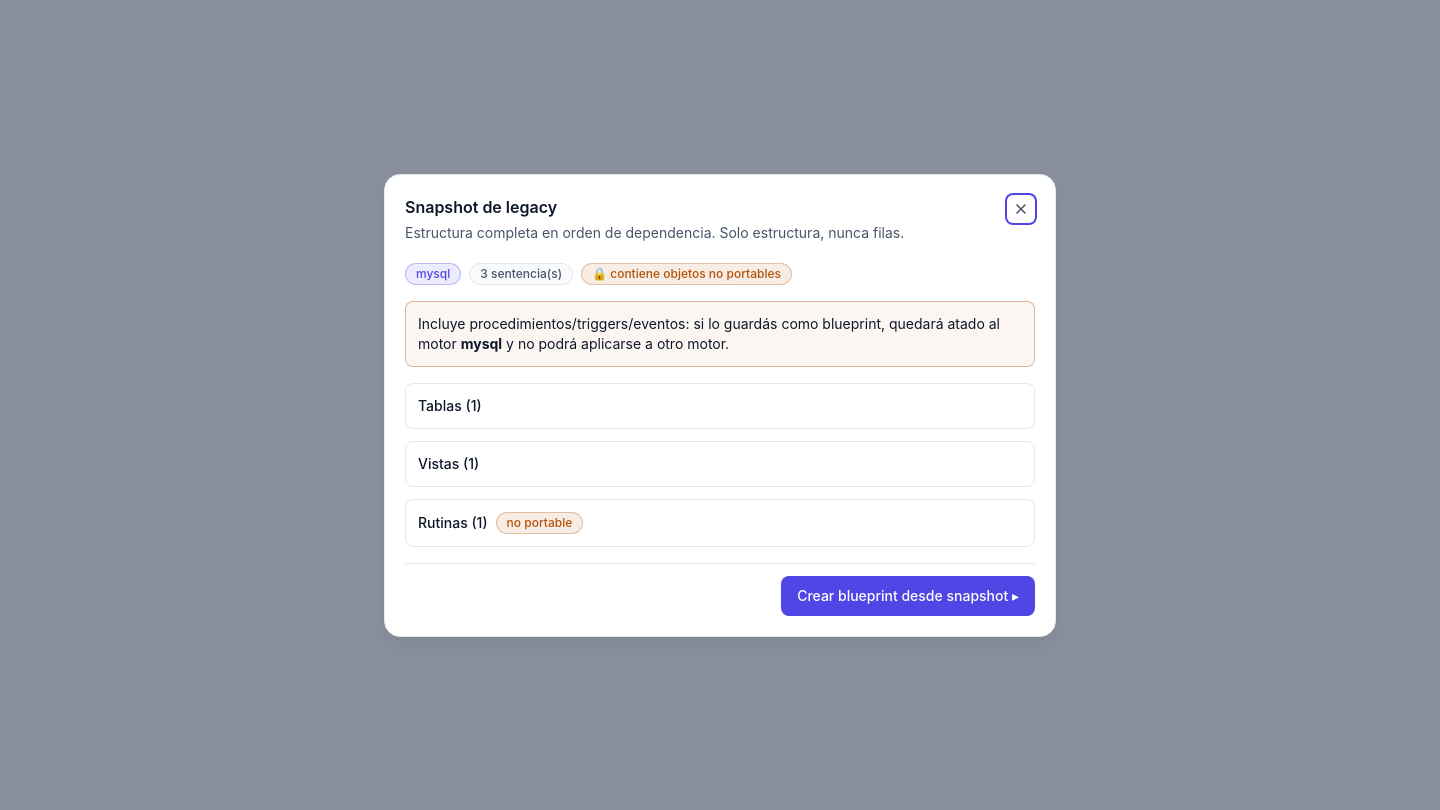
Scenario: SnapshotModal: código oculto sin schema.definitions › muestra el DDL de las tablas y «Contenido oculto» en los objetos redactados
Expected: the heading "Snapshot de legacy" is shown, [405,196,557,216]
Click the heading "Tablas (1)" at (450, 405), box [418,396,482,414]
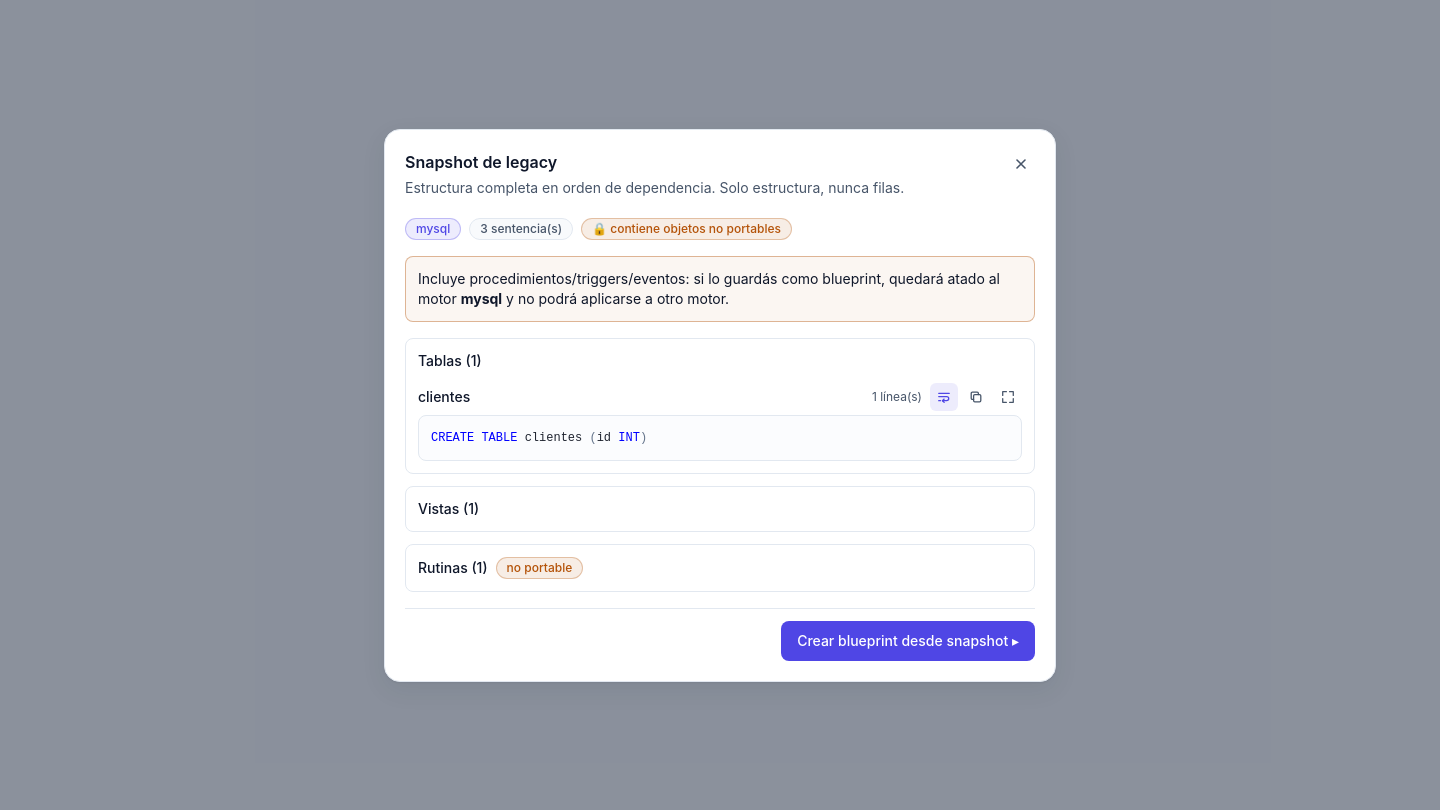
Click the heading "Vistas (1)" at (449, 508), box [418,500,479,516]
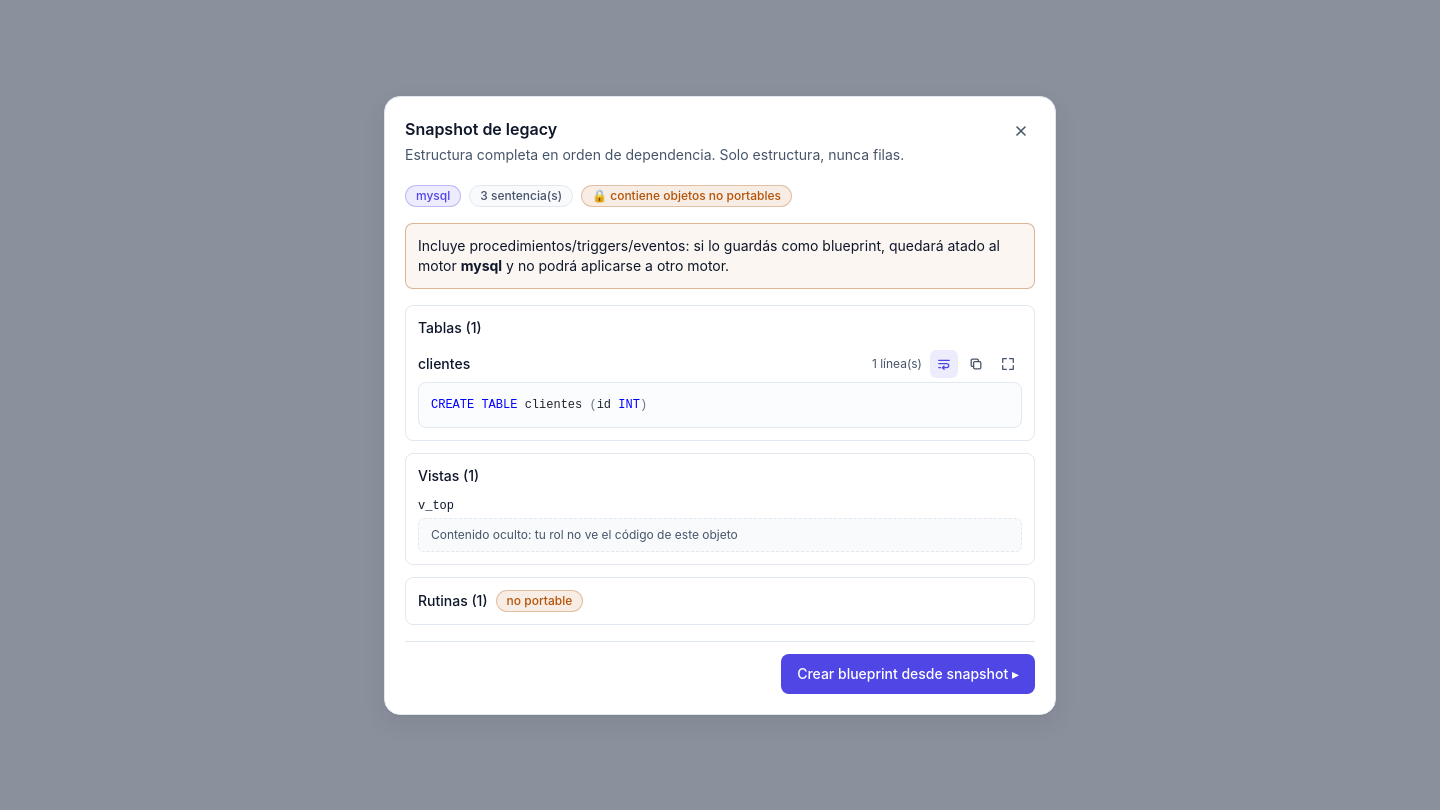
Click the heading "Rutinas (1) no portable" at (501, 600), box [418,590,583,612]
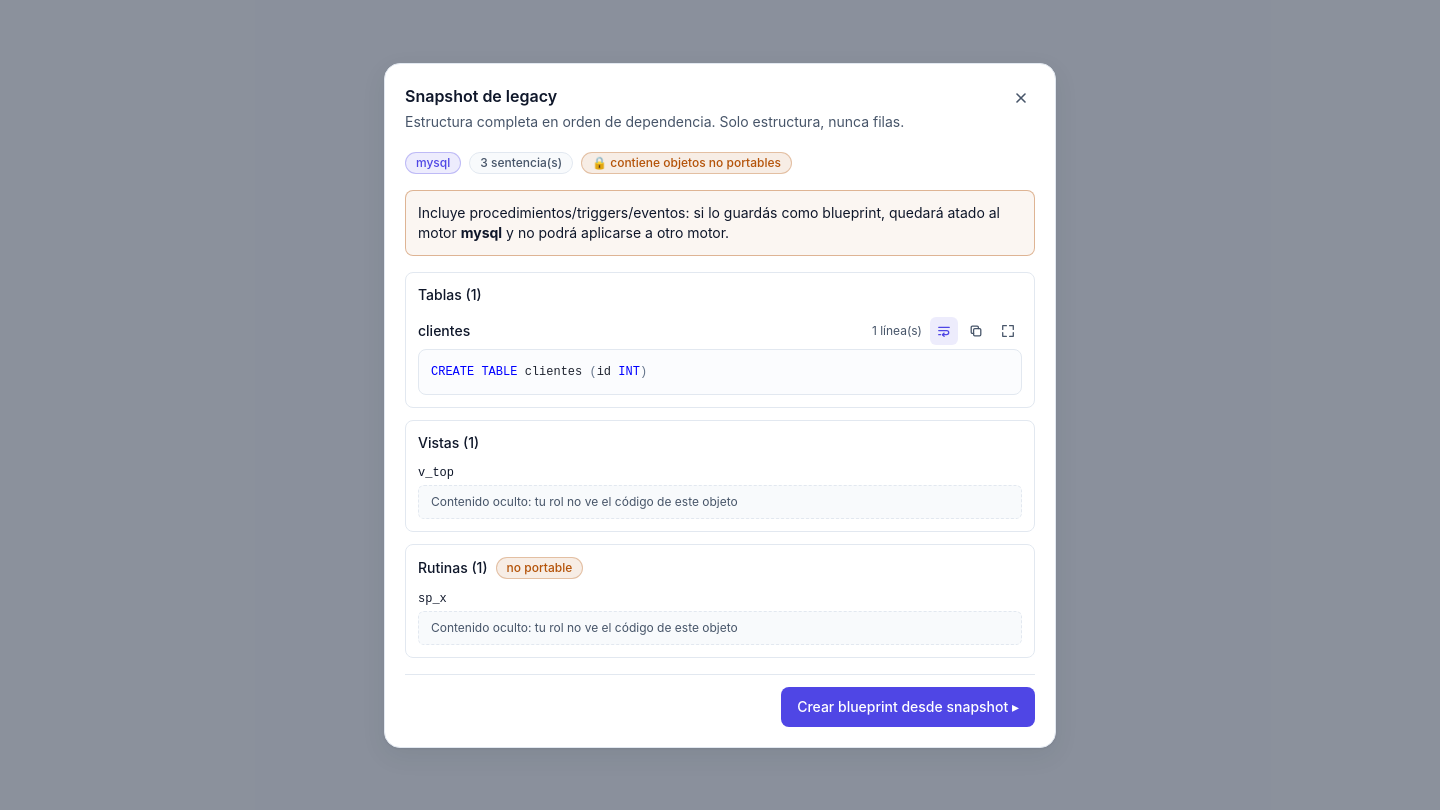
Now the text "Contenido oculto: tu rol no ve el código de este objeto" is shown 2 times, box [418,484,1022,518]; [418,610,1022,644]
